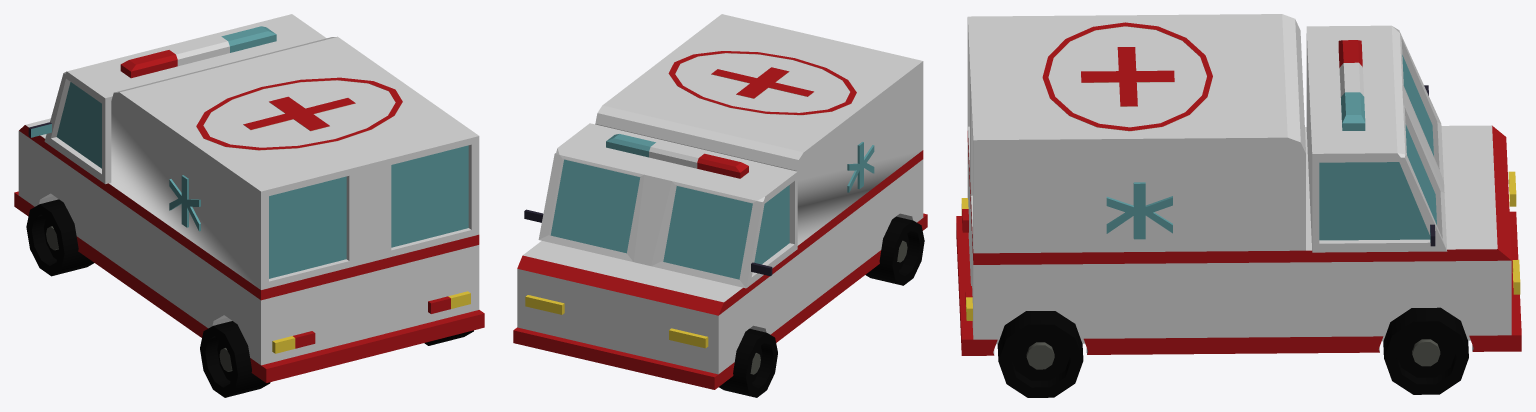
File: ambulance.fbx
The picture shows the model from 3 angles, left to right: view 1: azimuth 30°, elevation 25°; view 2: azimuth 150°, elevation 25°; view 3: azimuth 270°, elevation 25°; orthographic projection. The views are drawn at different scales.
Visible parts, largest first — view 1: Ambulance.015; view 2: Ambulance.015; view 3: Ambulance.015.
Part boxes in pixels (x1,y1,x2,y2): Ambulance.015: (14,14,484,397); Ambulance.015: (513,14,927,397); Ambulance.015: (956,14,1521,397).
Size of the model in its own units: 382 by 298 by 604.
